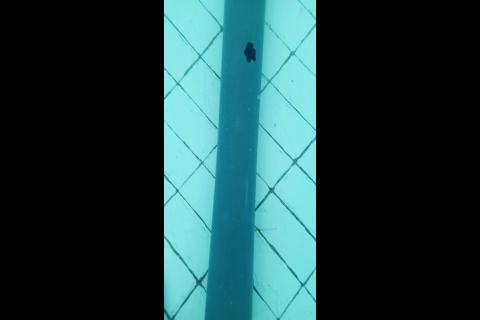kebocoran: (243, 42, 256, 64)
